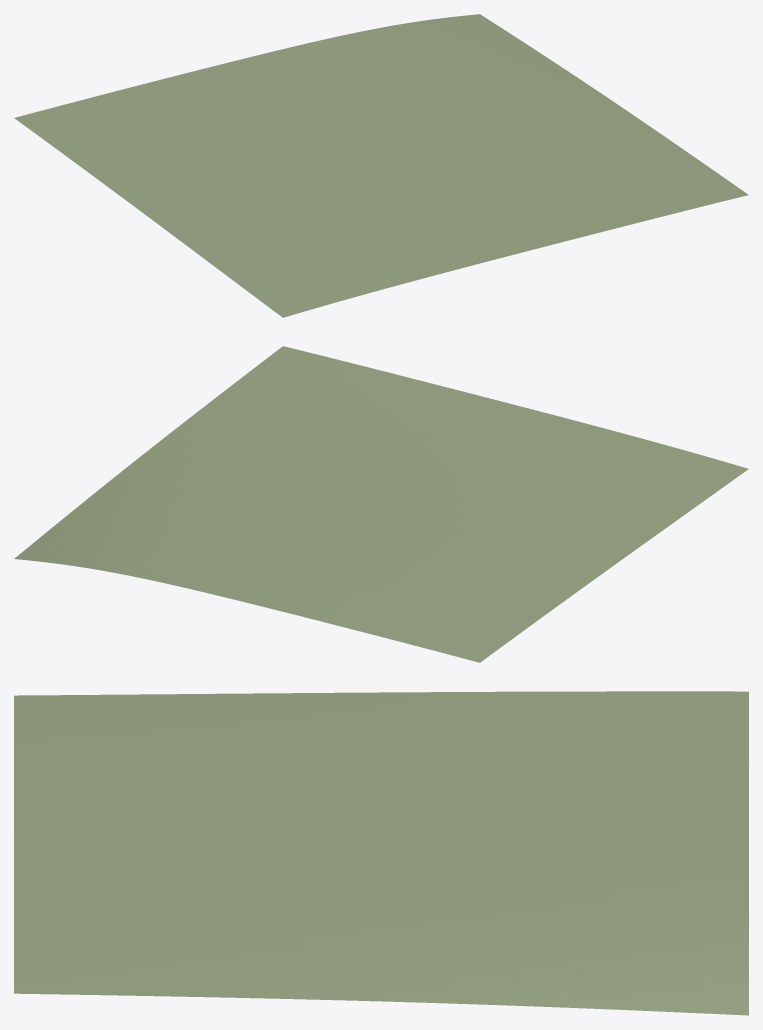
The model's file is desert-10-16.glb.
The picture shows the model from 3 angles, top to bottom: view 1: azimuth 30°, elevation 25°; view 2: azimuth 150°, elevation 25°; view 3: azimuth 270°, elevation 25°; orthographic projection. The views are drawn at different scales.
Visible parts, largest first — view 1: desert-10-16; view 2: desert-10-16; view 3: desert-10-16.
Part boxes in pixels (x1,y1,x2,y2): desert-10-16: [14, 14, 748, 317]; desert-10-16: [14, 346, 748, 662]; desert-10-16: [14, 691, 748, 1015].
Bounding box in the file's own units: 512 × 16.77 × 512.
